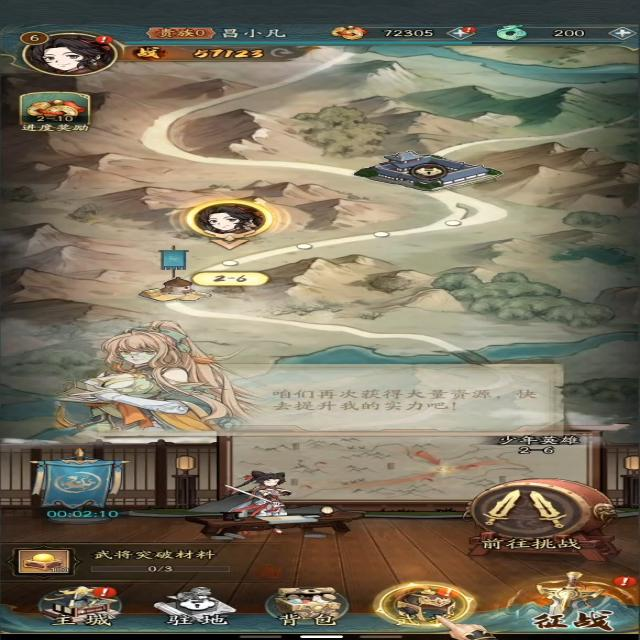hint-guide: (381, 580, 497, 640)
hint-reddot: (613, 571, 639, 592), (434, 586, 466, 601), (90, 586, 120, 600), (457, 24, 480, 34), (94, 34, 113, 45)
navigation-bag: (262, 582, 356, 630)
navigation-fight: (506, 570, 629, 633)
navigation-hero: (391, 587, 469, 628)
navigation-main: (29, 583, 132, 629)
navigation-role: (11, 30, 126, 78)
navigation-station-off: (147, 585, 233, 630)
operation-challenge: (473, 479, 597, 554)
